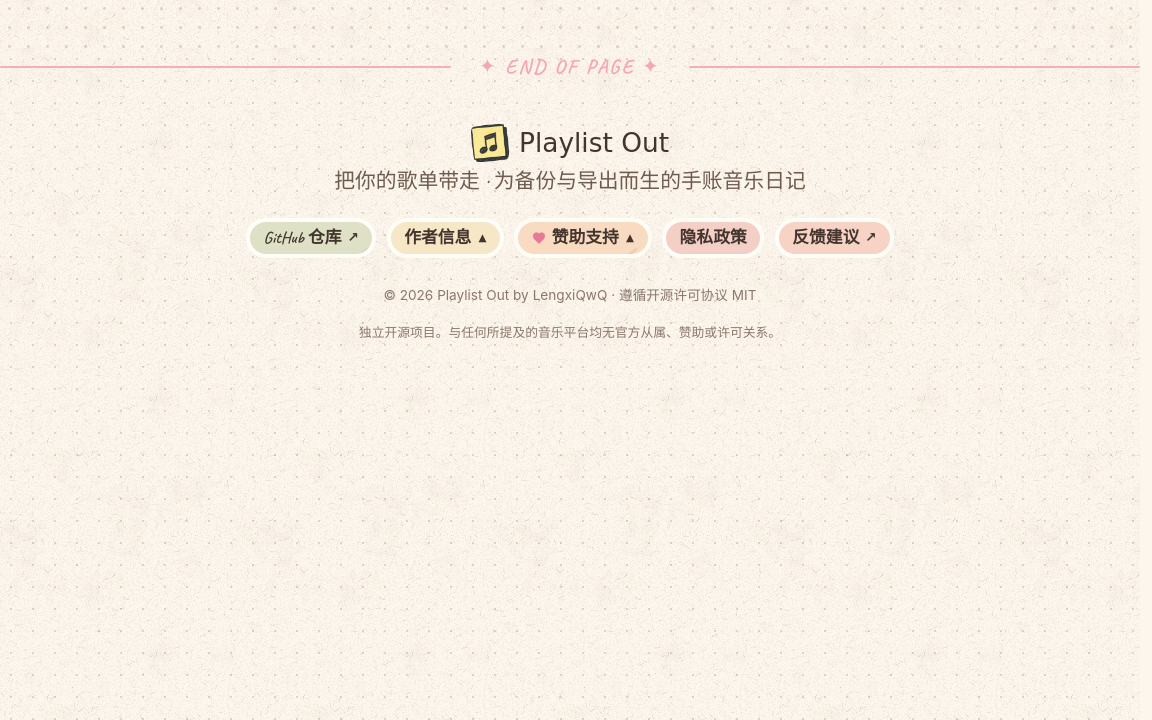
Test: Footer Component › toggles Author card when clicking Author button
Note: Click to open
Step 1. Click the button "作者信息 ▲" → (445, 238), box [389,220,502,256]
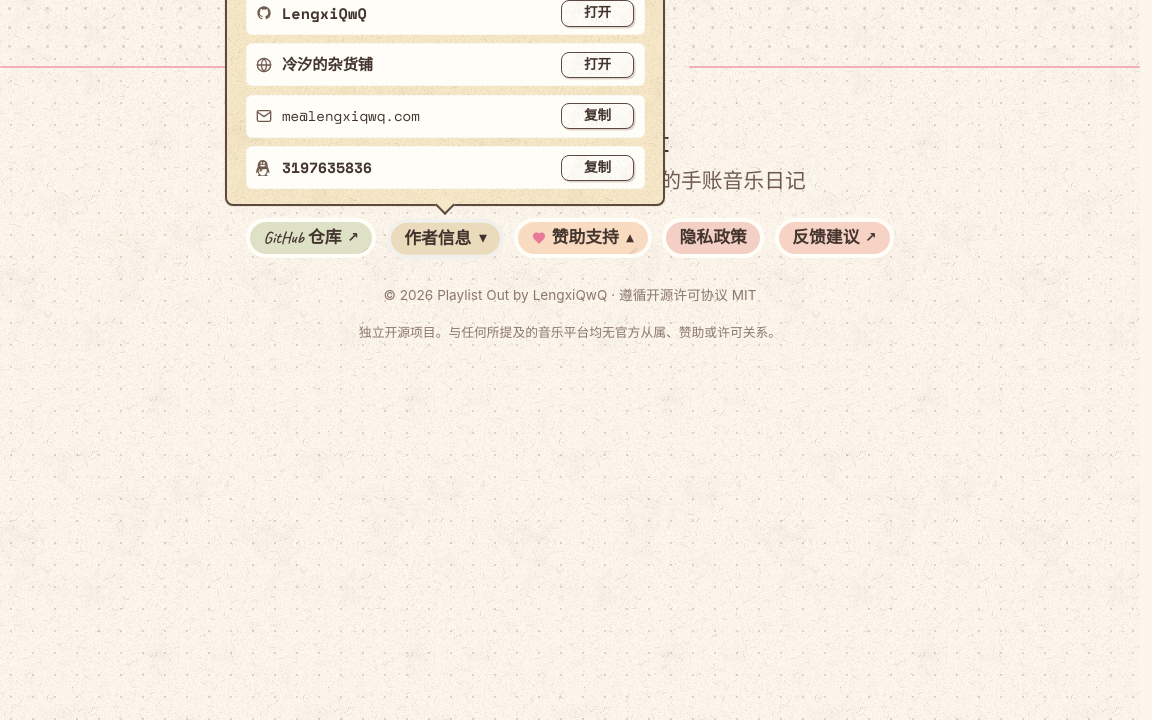
Expected: the button "作者信息 ▲" is expanded
Note: Click again to close
Step 2. Click the button "作者信息 ▲" → (445, 238), box [389,220,502,256]
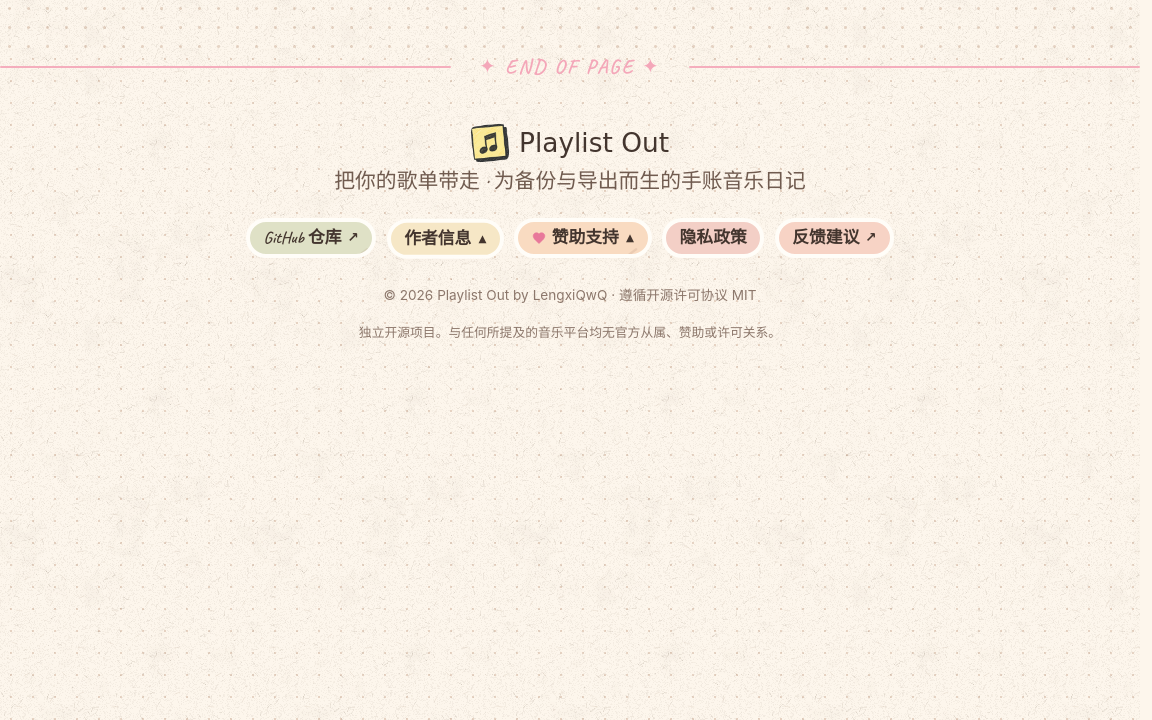
Expected: the button "作者信息 ▲" is collapsed, [389,220,502,256]
